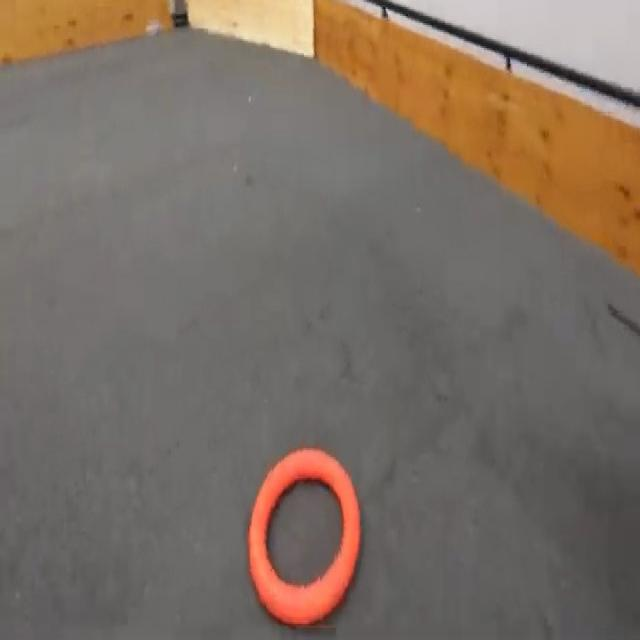note: (246, 448, 360, 628)
